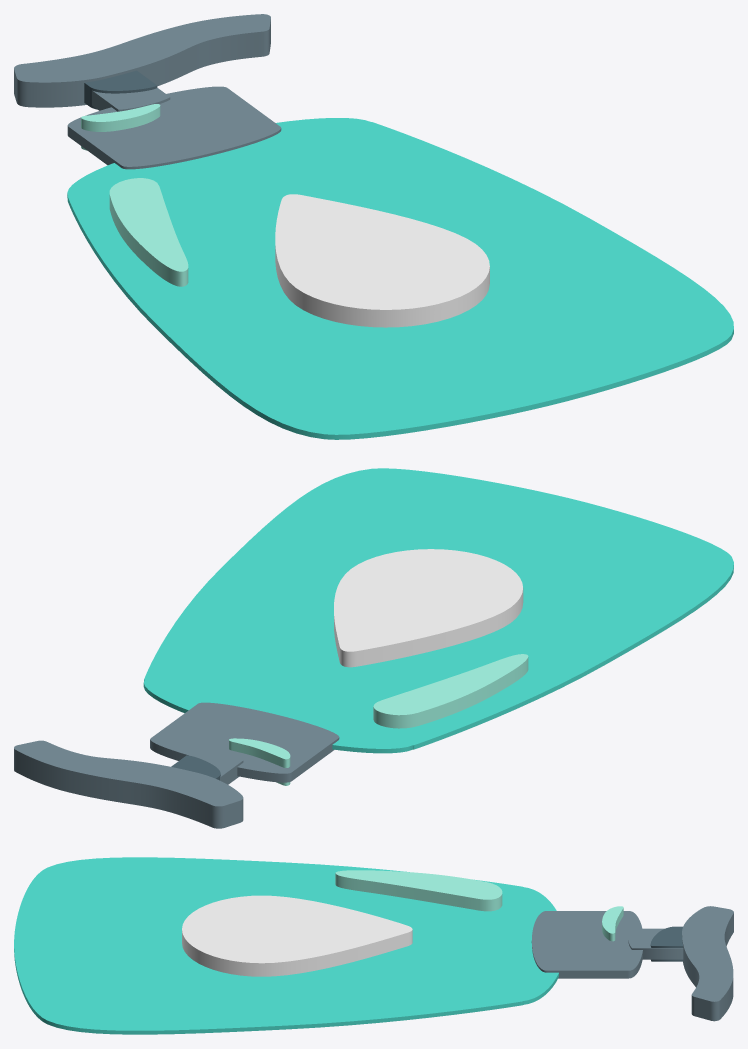
The model's file is emoji_u1f9f4.glb.
3 renders of one model, top to bottom at view 1: azimuth 30°, elevation 25°; view 2: azimuth 150°, elevation 25°; view 3: azimuth 270°, elevation 25°, orthographic. The views are drawn at different scales.
Parts seen in each view (by area): view 1: emoji_u1f9f4; view 2: emoji_u1f9f4; view 3: emoji_u1f9f4.
Part boxes in pixels (x1,y1,x2,y2): emoji_u1f9f4: (14,14,733,439); emoji_u1f9f4: (14,468,733,828); emoji_u1f9f4: (14,857,733,1034).
Size of the model in its own units: 0.0192 by 0.0016 by 0.0337.
